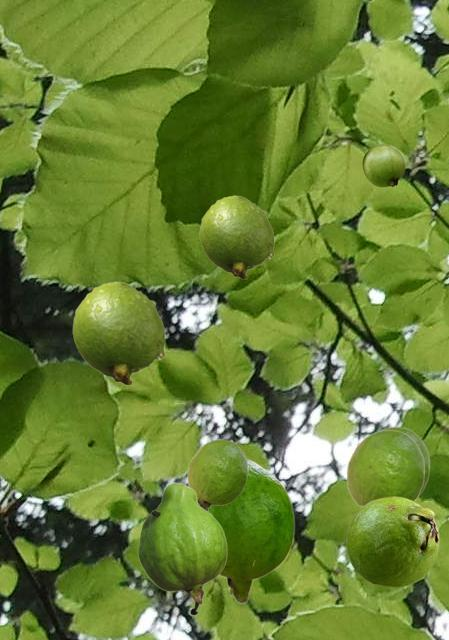guava: (209, 458, 294, 603), (137, 482, 226, 614), (72, 281, 164, 384), (346, 496, 438, 586), (199, 195, 273, 278), (346, 429, 424, 506), (187, 439, 247, 510), (378, 426, 429, 494), (362, 144, 404, 186)
